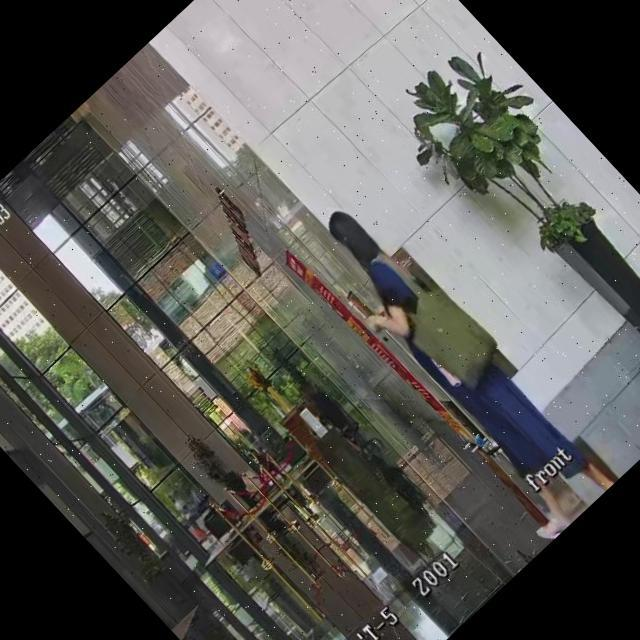person: (282, 192, 618, 542), (296, 378, 353, 437), (165, 491, 216, 545), (246, 444, 289, 488)
